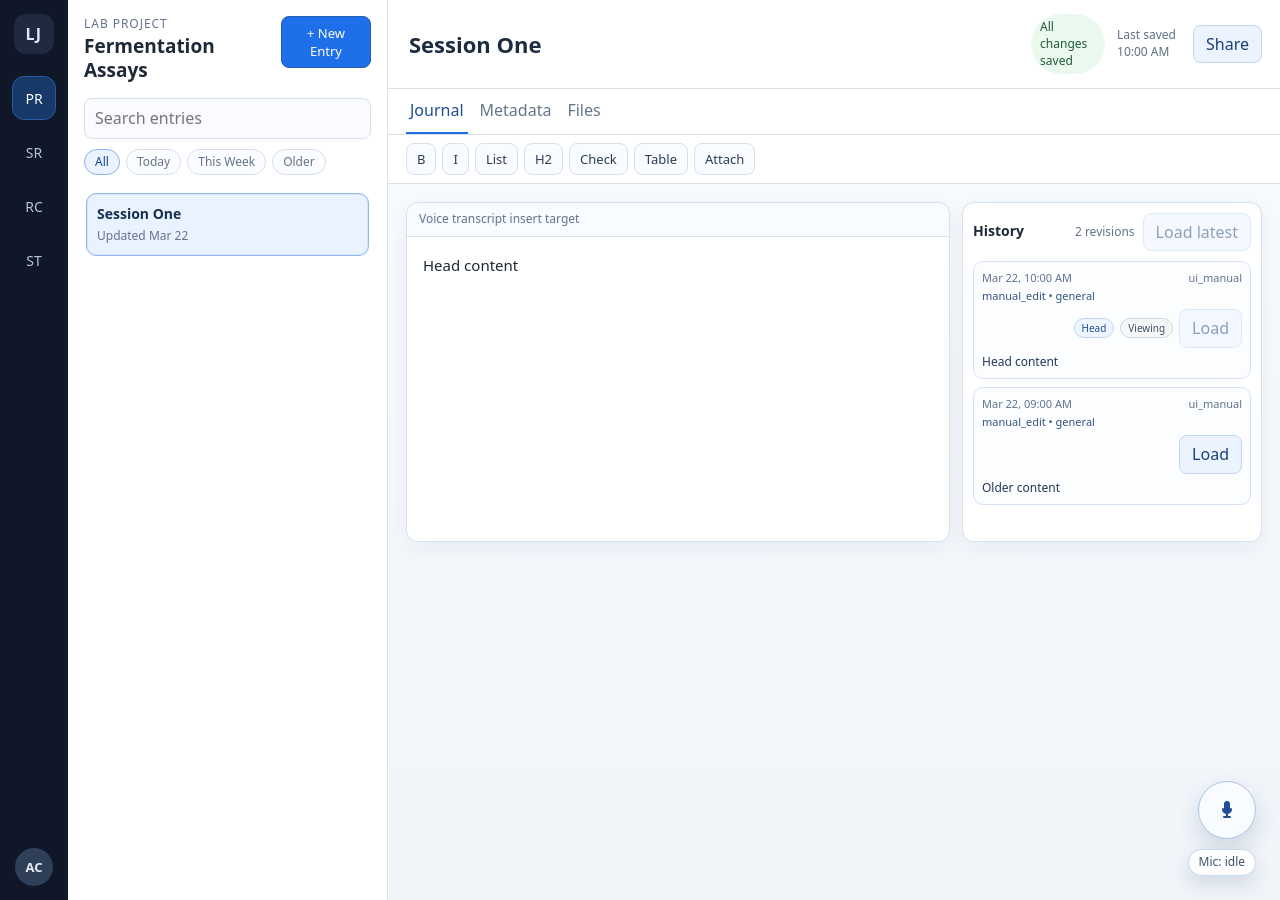
Test: AppShell revision flow › shows historical-revision banner and allows loading latest
The image size is (1280, 900).
expect the field showing "Session One" is shown: met, box [406,24,1015,65]
What coordinates should you click on to do the following:
click the button "Load" below "Mar 22, 09:00 AM"
I would click on:
 (1211, 454)
Its box is [1179,435,1242,474].
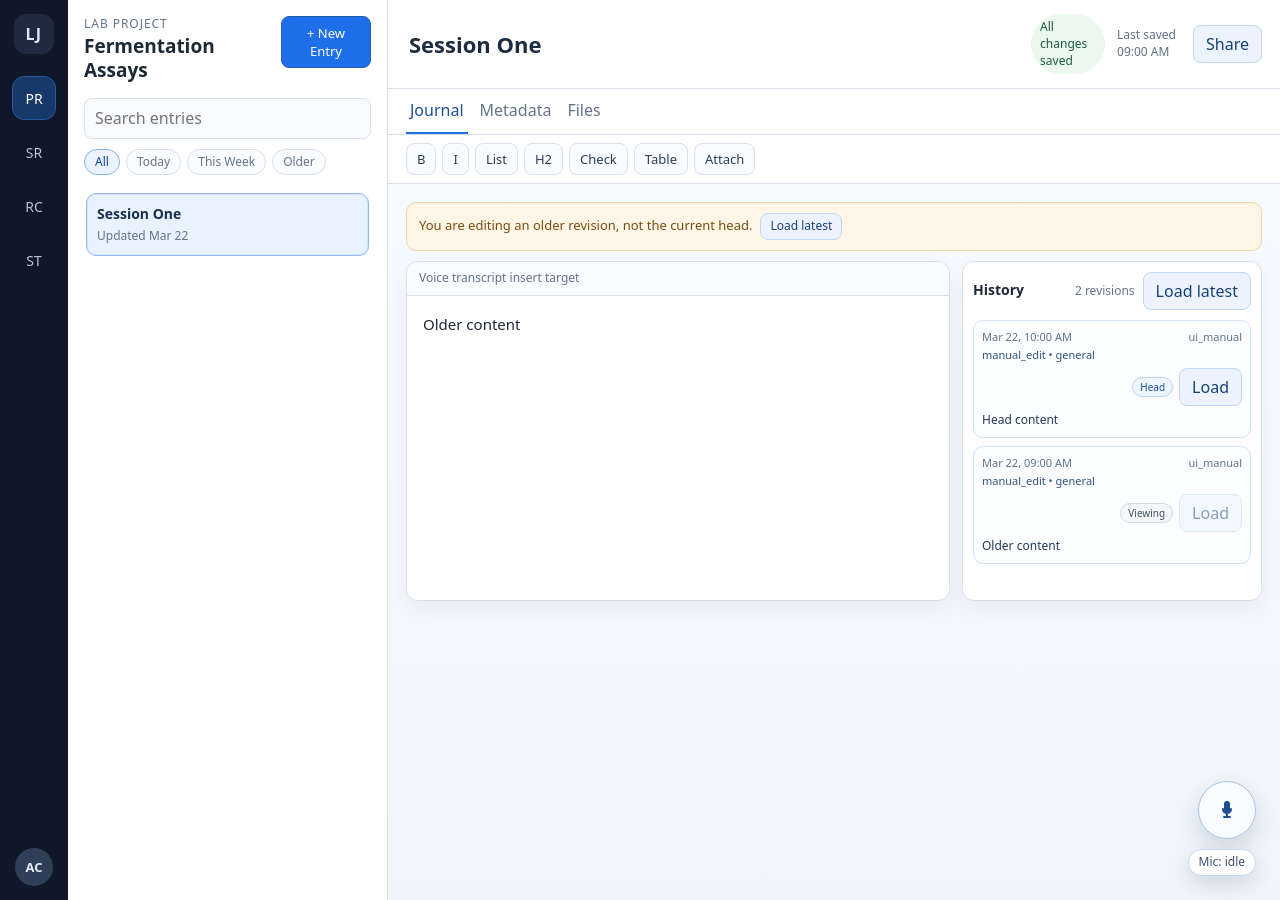
expect the text "You are editing an older revision, not the current head." is shown: met, box [419,216,752,234]
expect the 1st button "Load latest" is shown: met
What coordinates should you click on to do the following:
click the 1st button "Load latest"
I would click on:
 (801, 226)
Its box is [760,213,842,240].
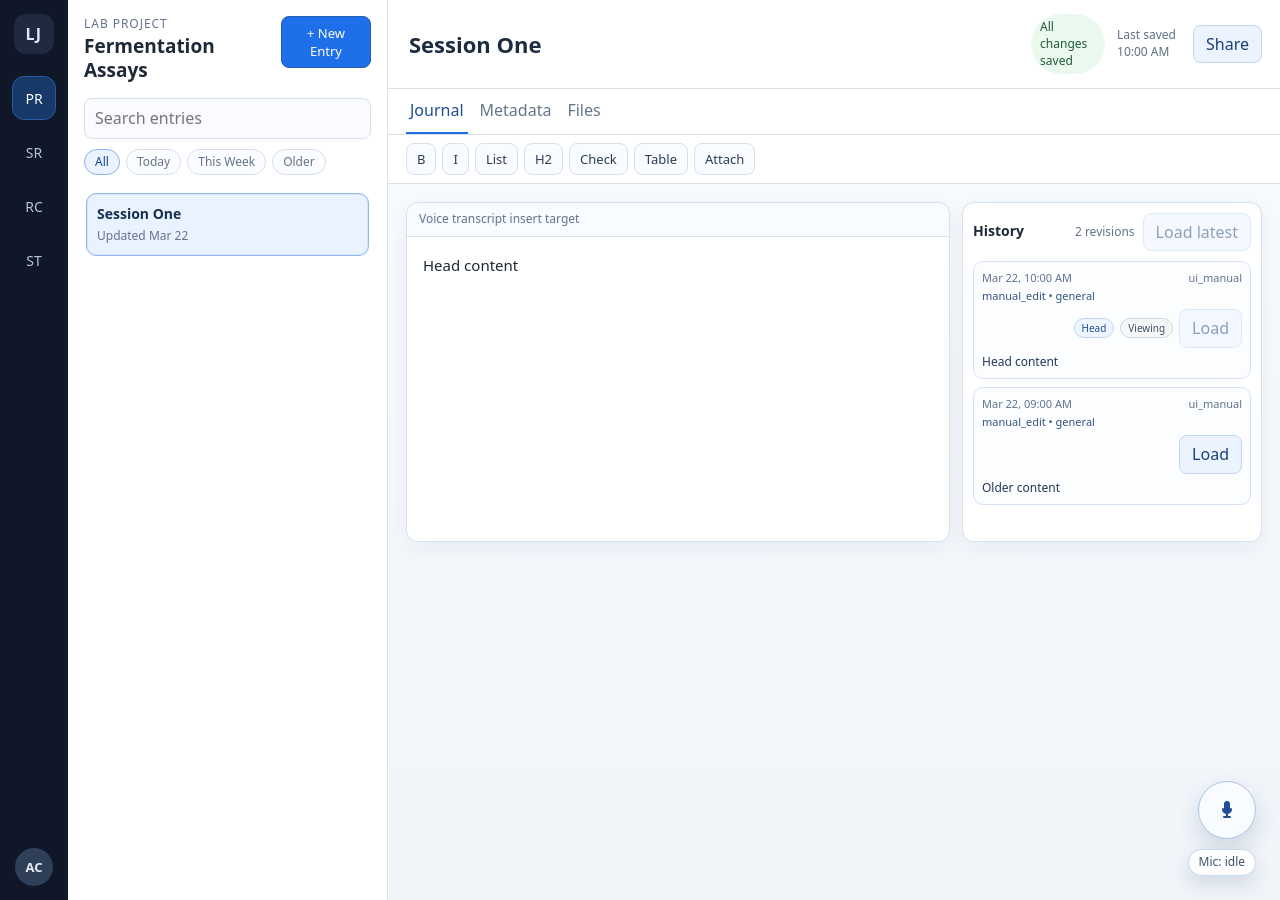
expect the text "Head" is shown: met, box [1074,318,1114,338]
expect the text "You are editing an older revision, not the current head." is gone: met
